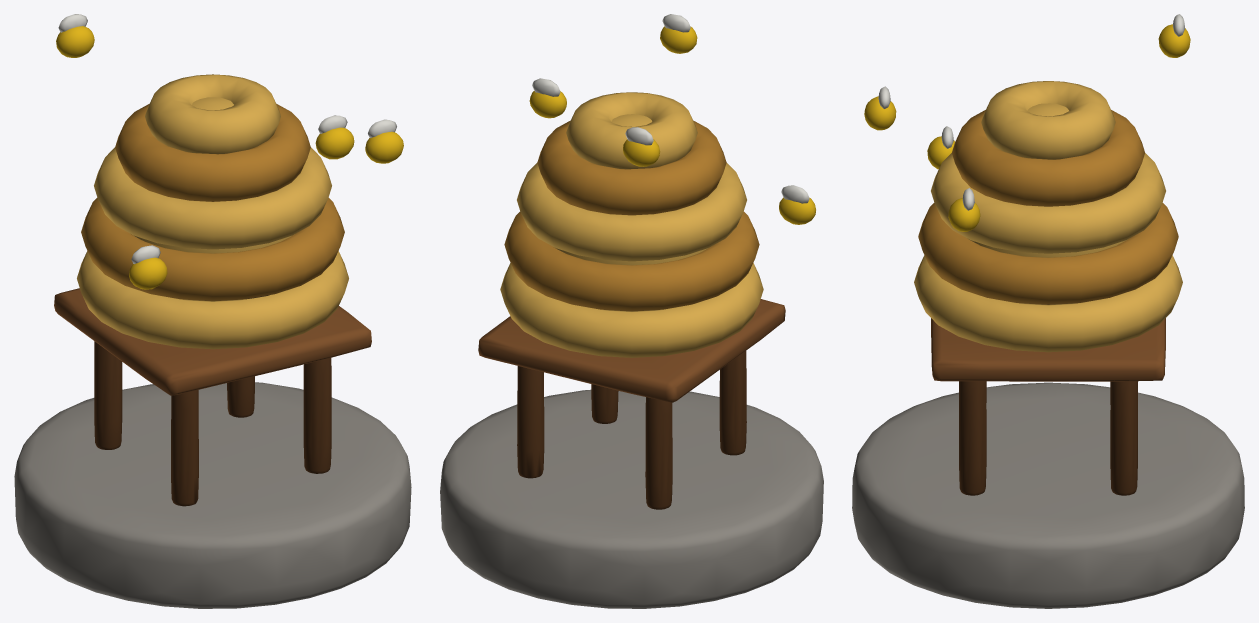
The model's file is Bienenstock.fbx.
3 renders of one model, left to right at view 1: azimuth 30°, elevation 25°; view 2: azimuth 150°, elevation 25°; view 3: azimuth 270°, elevation 25°, orthographic. The views are drawn at different scales.
Parts seen in each view (by area): view 1: Bienenstock; view 2: Bienenstock; view 3: Bienenstock.
Part boxes in pixels (left/top/right/bottom): Bienenstock: left=14, top=14, right=411, bottom=608; Bienenstock: left=440, top=14, right=823, bottom=608; Bienenstock: left=852, top=14, right=1244, bottom=608.
Bounding box in the file's own units: 0.9339 × 1.26 × 0.9339.
